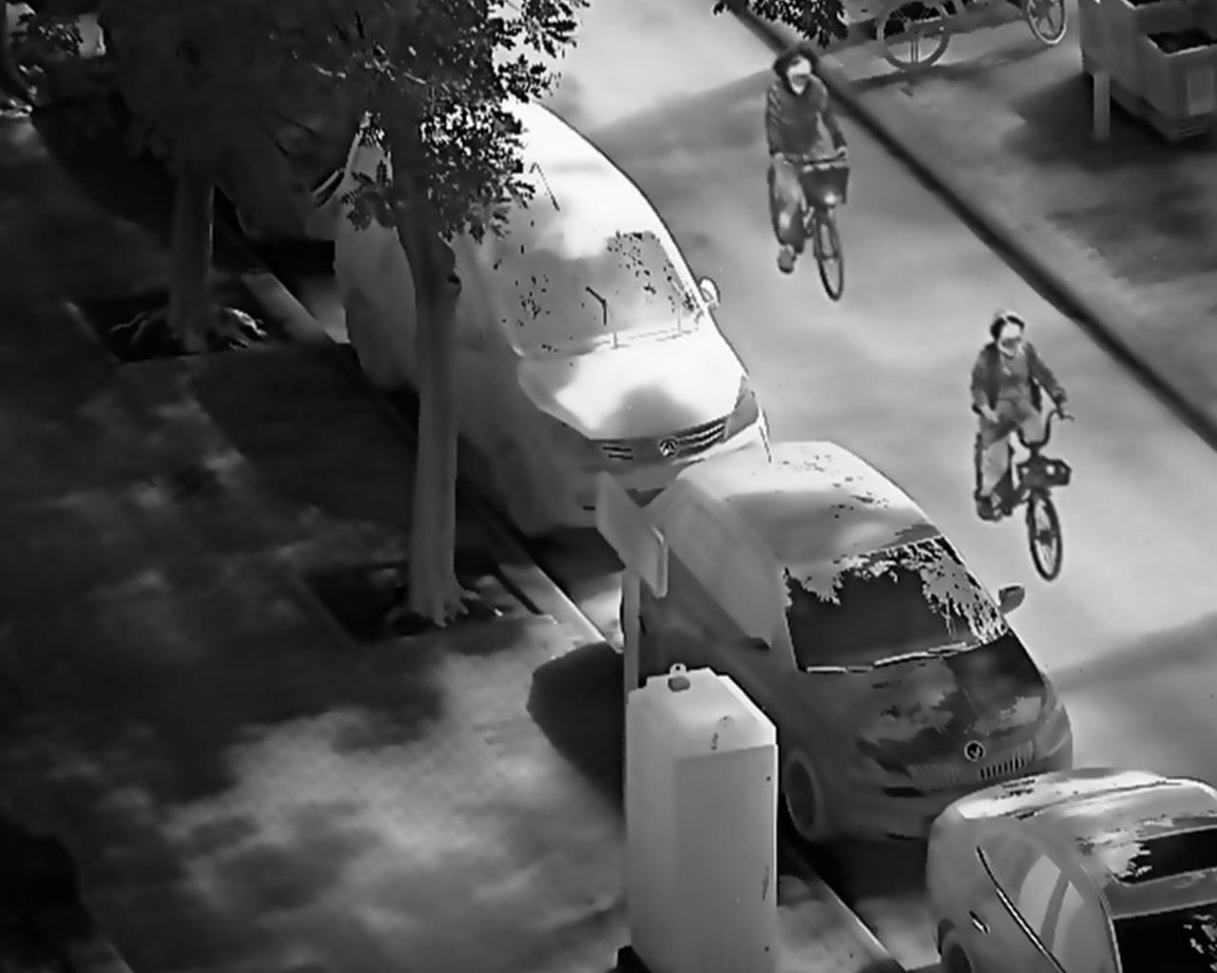person: (968, 310, 1074, 524), (763, 45, 852, 277)
